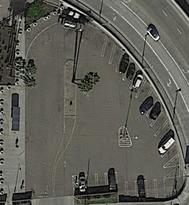parkingspot: (100, 32, 181, 170), (117, 177, 167, 204), (76, 170, 119, 197), (162, 165, 184, 181)
